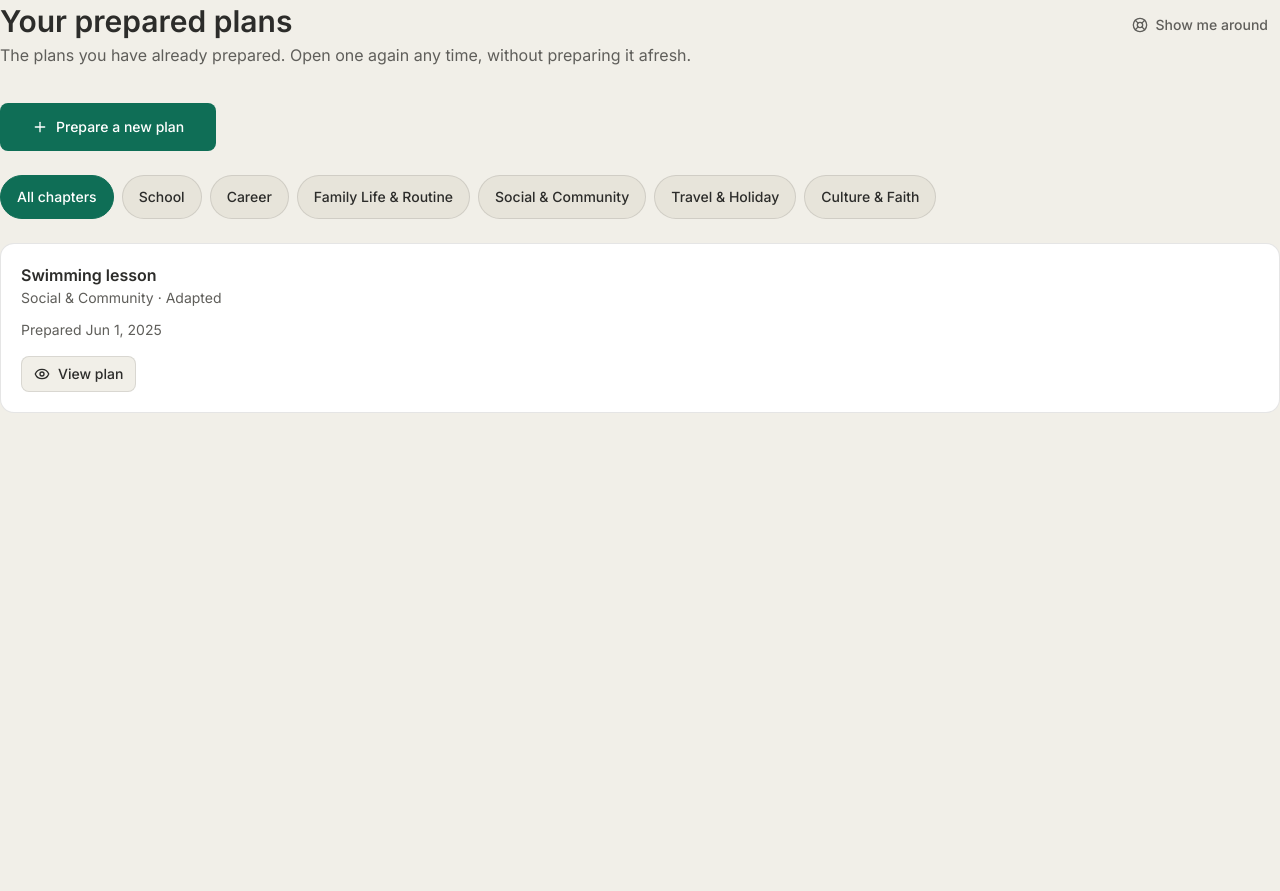
Test: PlansList › views a plan inline: fetches the full plan by activity_id and re-renders it
The image size is (1280, 891).
Expected: the heading "Swimming lesson" is shown, [21,265,157,285]
Click the button "View plan": (79, 374) [21,356,136,392]
(page scrolled)
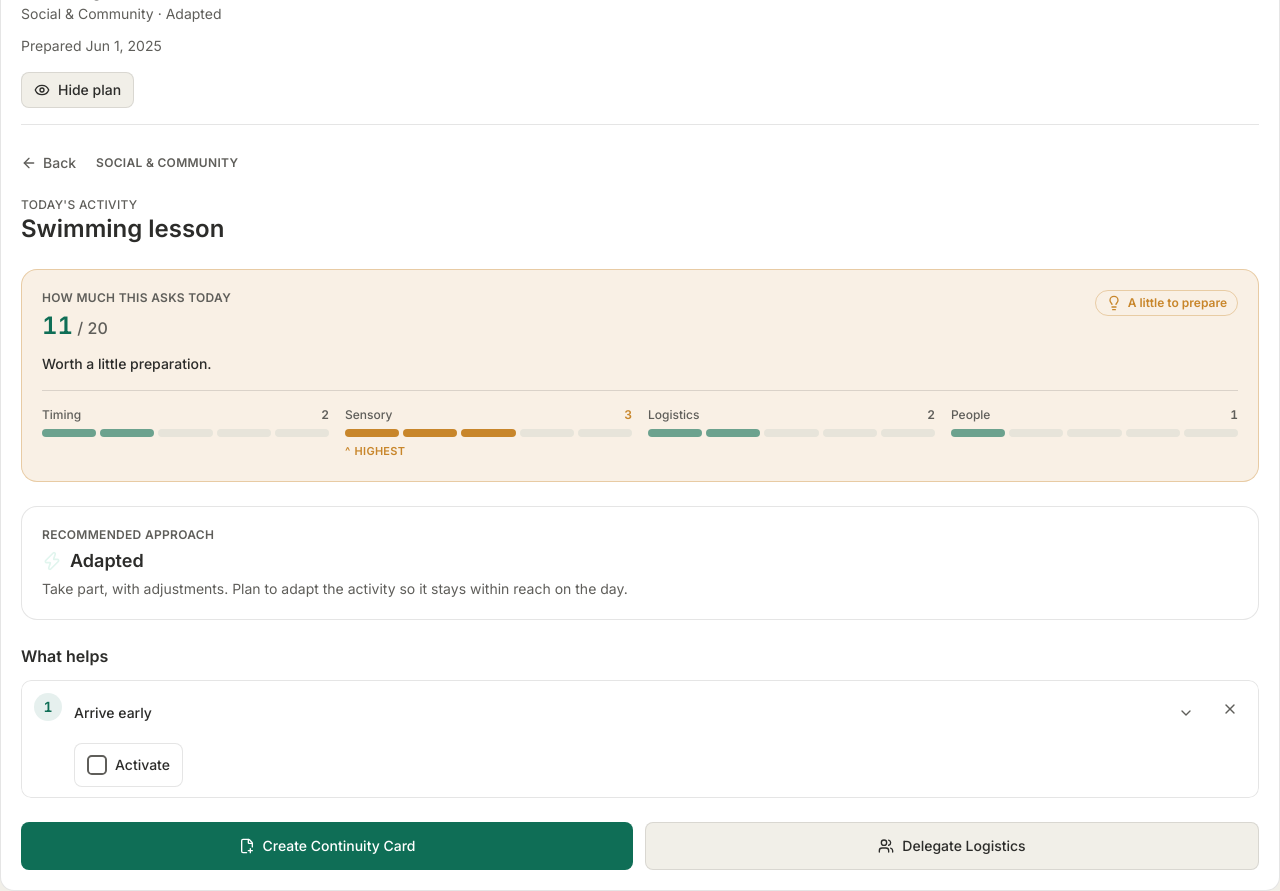
Result: the heading "Adapted" is shown at [70,547,144,575]
Result: the text "Arrive early" is shown at [74,703,152,723]
